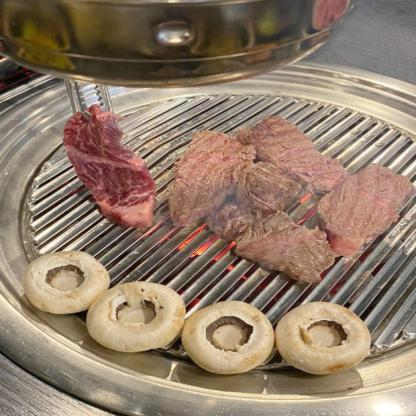Carne: (214, 202, 340, 281), (240, 111, 355, 194), (315, 160, 411, 250), (178, 127, 254, 229)
